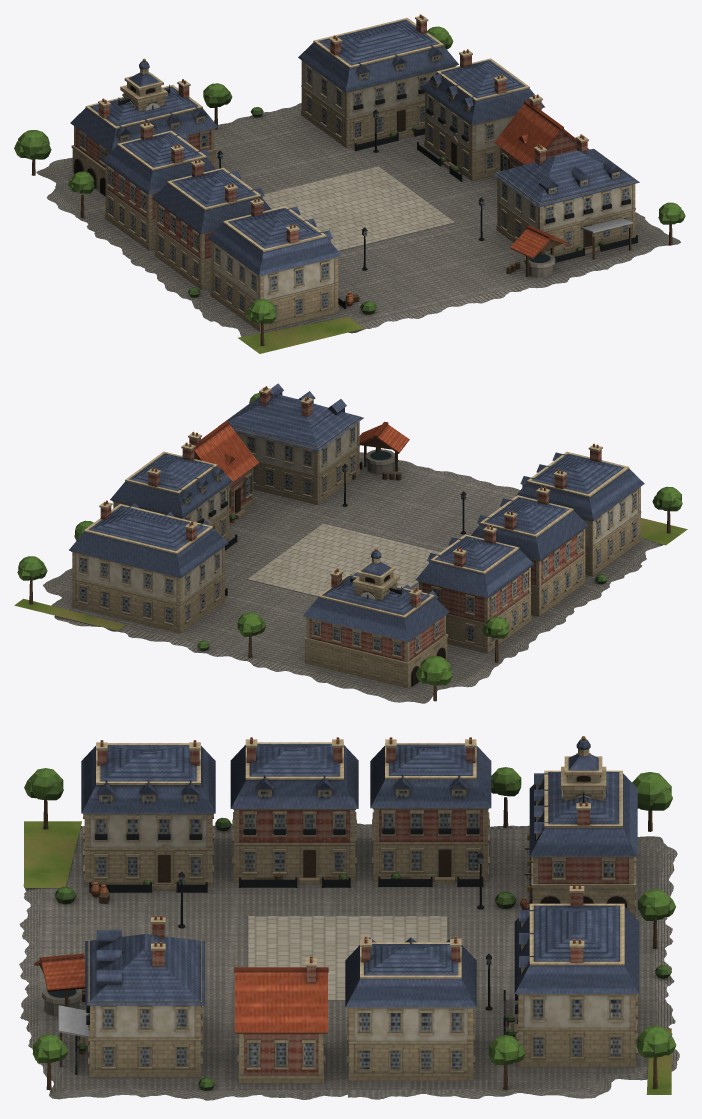
File: gunpowder-town-small-a-europe.glb
3 renders of one model, top to bottom at view 1: azimuth 30°, elevation 25°; view 2: azimuth 150°, elevation 25°; view 3: azimuth 270°, elevation 25°, orthographic. The views are drawn at different scales.
Visible parts, largest first — view 1: LOD0; view 2: LOD0; view 3: LOD0.
Part boxes in pixels (x1=…): LOD0: x1=14, y1=14, x2=685, y2=353; LOD0: x1=14, y1=383, x2=687, y2=703; LOD0: x1=19, y1=736, x2=679, y2=1100.
Size of what is drawn, in the model's own units: 4.02 by 1.02 by 4.06.
Materials: 3 (3 with a texture image).
